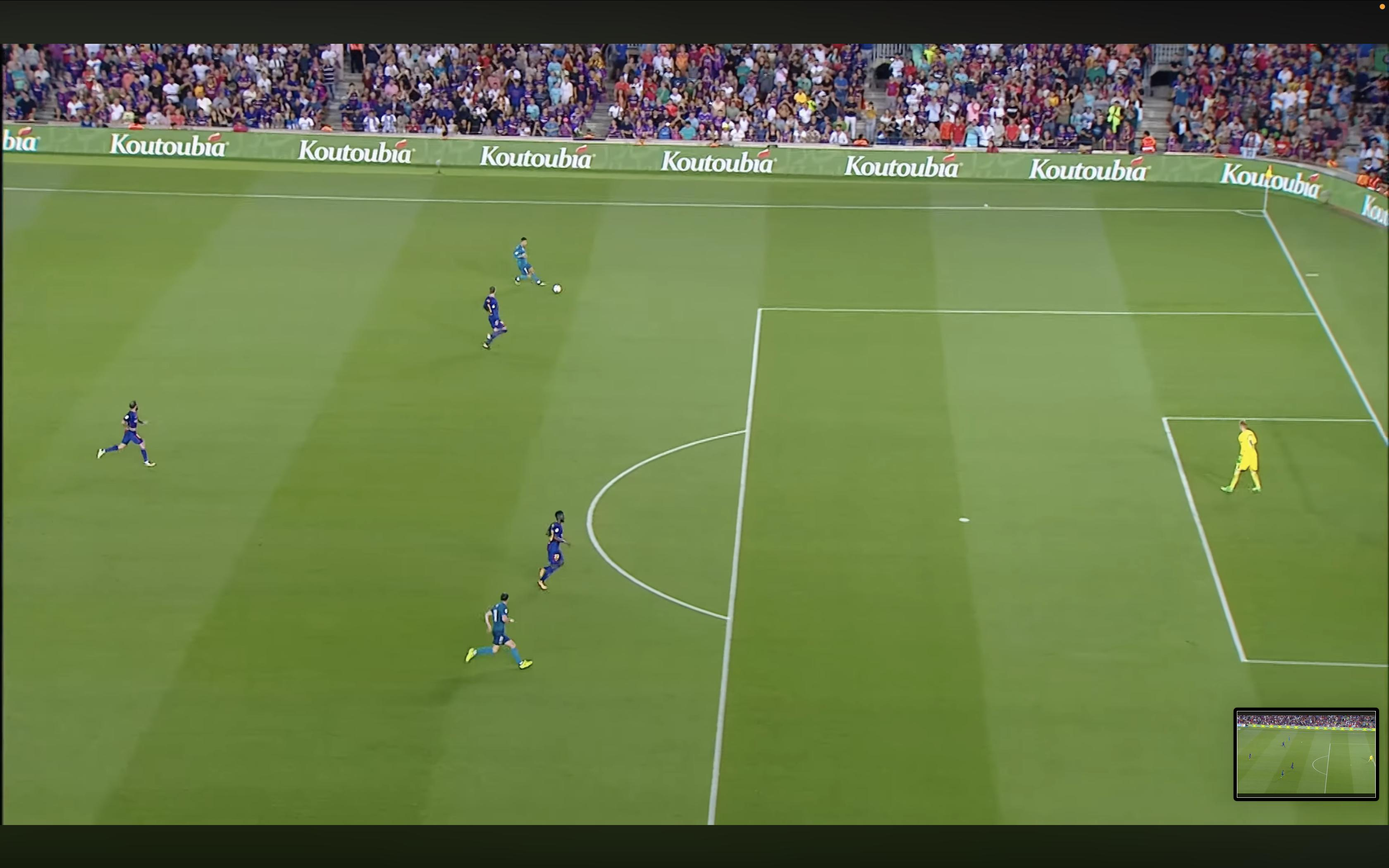ball: (552, 283, 561, 293)
goalkeeper: (1221, 420, 1261, 492)
player: (465, 593, 532, 668), (96, 402, 155, 467), (537, 511, 569, 590), (483, 286, 507, 349), (513, 238, 543, 285)
